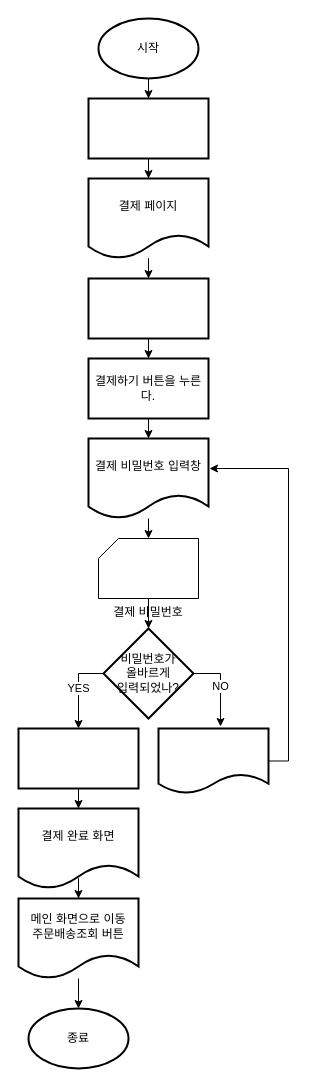
Some shapes in this 314 by 1086 pixel diagram are drawn without their labels. Here are the shapes that lost their labels. From the top down, the box of each, then its label:
(87, 97, 209, 159): 결제 페이지를 요청한다.
(87, 277, 209, 339): 결제 수단(카드, 무통장) 을 선택한다.
(17, 727, 139, 789): 결제 정보를 전송한다.
(157, 727, 269, 794): 다시 입력해주세요
